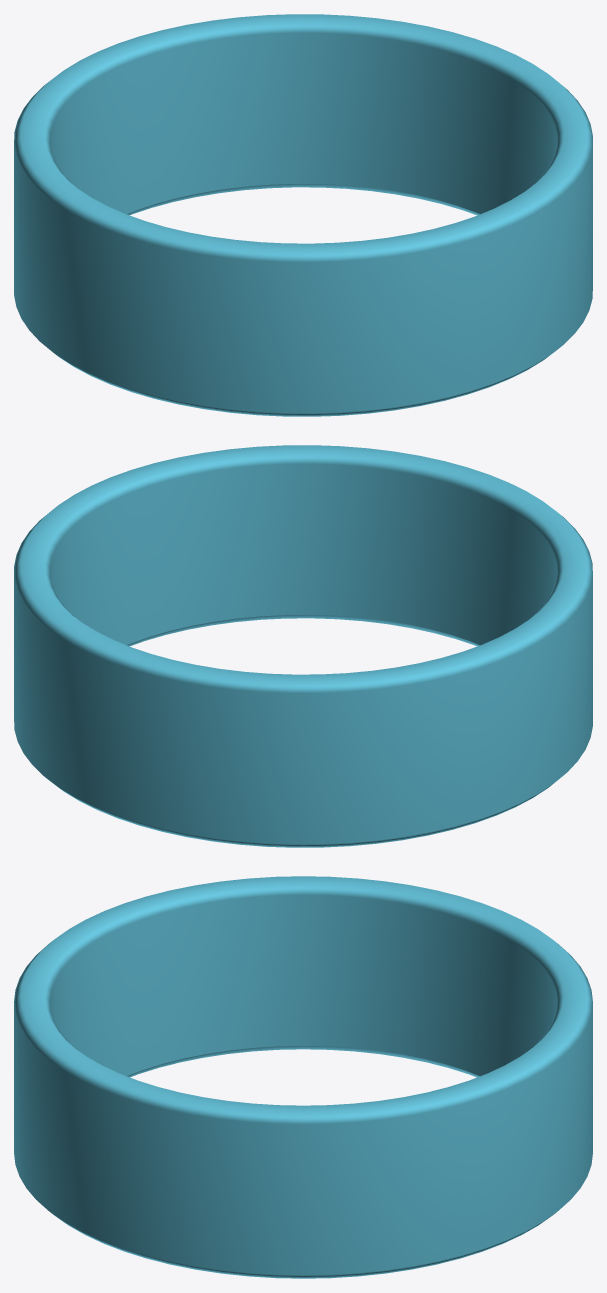
The picture shows the model from 3 angles, top to bottom: view 1: azimuth 30°, elevation 25°; view 2: azimuth 150°, elevation 25°; view 3: azimuth 270°, elevation 25°; orthographic projection.
Visible parts, largest first — view 1: seal_body; view 2: seal_body; view 3: seal_body.
Boxes of the visible parts, x1,y1,x2,y2 form: seal_body: [14, 14, 592, 416]; seal_body: [14, 445, 592, 847]; seal_body: [14, 876, 592, 1278].
Size of the model in its own units: 0.0508 by 0.0159 by 0.0508.
